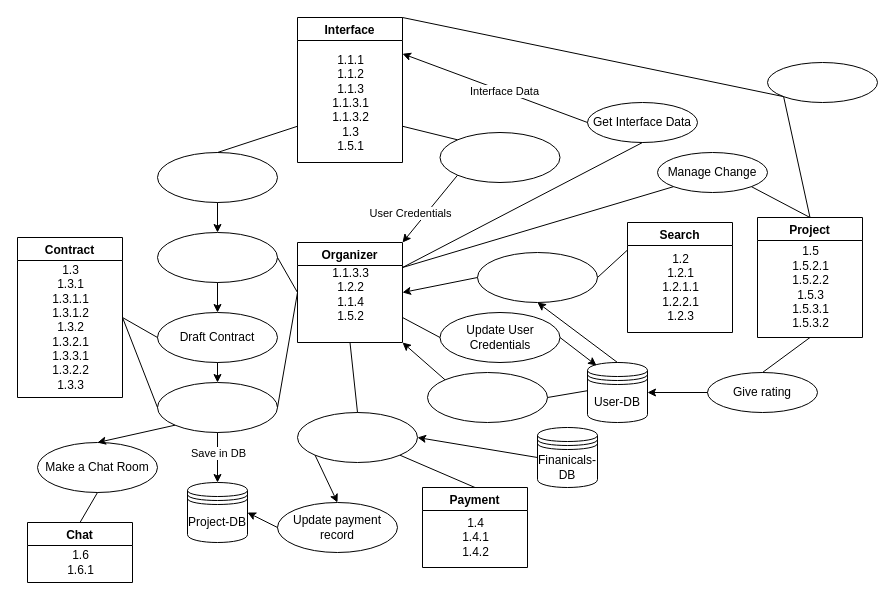
This 895x600 diagram has some shape labels left out. Each missing label, with the centre of its shape:
Finalize New Project: the point at 217,407
Get User Credentials: the point at 499,157
Notify Provider: the point at 217,257
Process Project Payment: the point at 357,437
Propose Project to a Provider: the point at 217,177
Query User Data: the point at 537,277
Track project progress: the point at 822,82
Validate User Credentials: the point at 487,397
